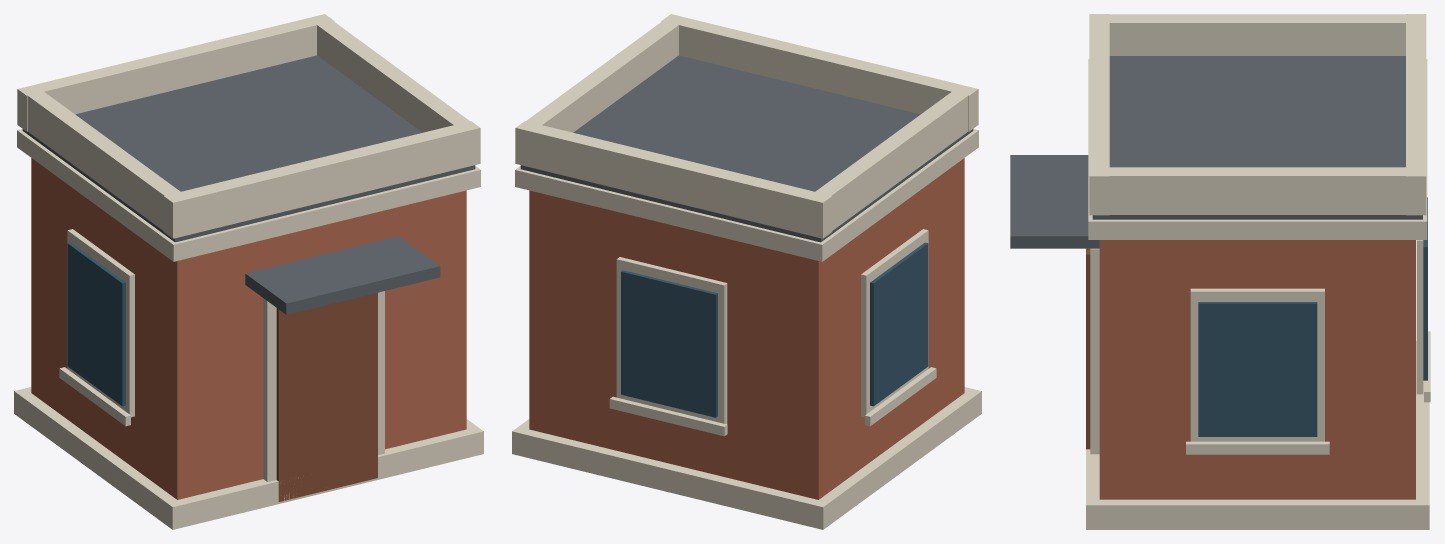
File: initial-01-minimum.glb
3 renders of one model, left to right at view 1: azimuth 30°, elevation 25°; view 2: azimuth 150°, elevation 25°; view 3: azimuth 270°, elevation 25°, orthographic. The views are drawn at different scales.
Parts seen in each view (by area): view 1: 01-minimum; view 2: 01-minimum; view 3: 01-minimum.
Boxes of the visible parts, left/top/right/bottom form: 01-minimum: left=14, top=14, right=483, bottom=529; 01-minimum: left=512, top=14, right=981, bottom=529; 01-minimum: left=1010, top=14, right=1430, bottom=529.
Size of the model in its own units: 3.46 by 3.44 by 3.72.
